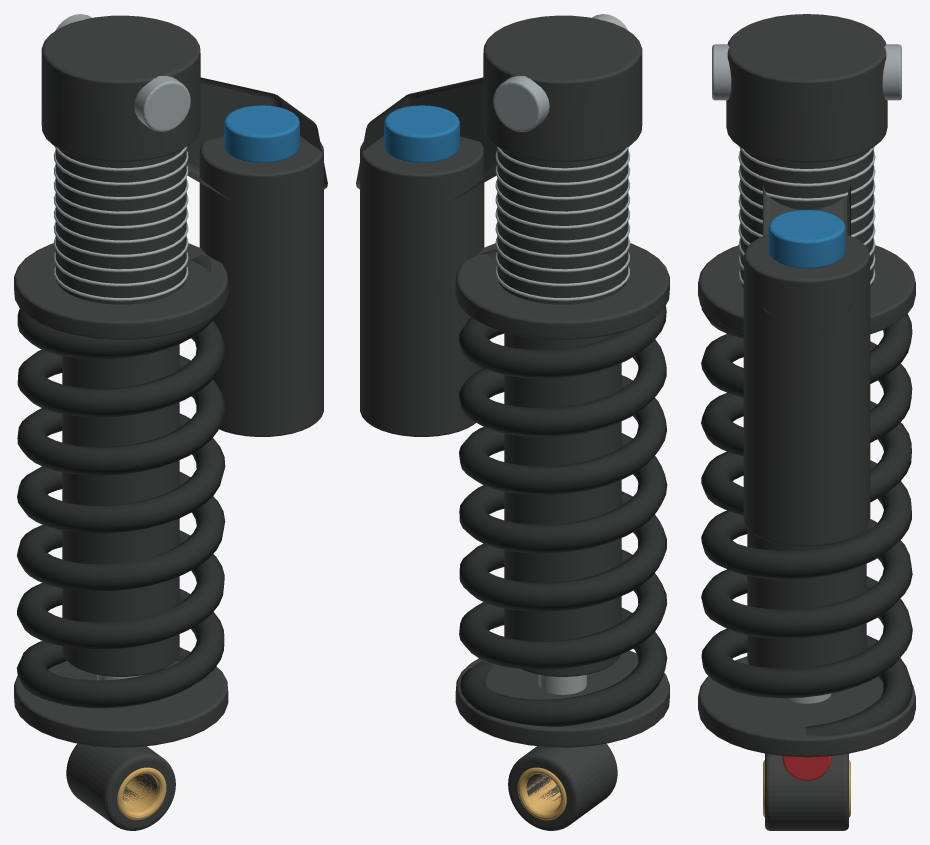
The model's file is marzocchi-bomber-cr--200ccd92.glb.
3 views of the same model, side by side, from view 1: azimuth 30°, elevation 25°; view 2: azimuth 150°, elevation 25°; view 3: azimuth 270°, elevation 25° (orthographic).
Visible parts, largest first — view 1: marzocchi-bomber-cr--200ccd92__link, marzocchi-bomber-cr--200ccd92__coil, marzocchi-bomber-cr--200ccd92__bolts, marzocchi-bomber-cr--200ccd92__adjuster, marzocchi-bomber-cr--200ccd92__stanchions; view 2: marzocchi-bomber-cr--200ccd92__link, marzocchi-bomber-cr--200ccd92__coil, marzocchi-bomber-cr--200ccd92__bolts, marzocchi-bomber-cr--200ccd92__adjuster, marzocchi-bomber-cr--200ccd92__stanchions; view 3: marzocchi-bomber-cr--200ccd92__link, marzocchi-bomber-cr--200ccd92__coil, marzocchi-bomber-cr--200ccd92__bolts, marzocchi-bomber-cr--200ccd92__adjuster, marzocchi-bomber-cr--200ccd92__rebound.
Part boxes in pixels (box(x1,y1,x2,y2)): marzocchi-bomber-cr--200ccd92__link: box(14, 15, 327, 830); marzocchi-bomber-cr--200ccd92__coil: box(16, 255, 225, 708); marzocchi-bomber-cr--200ccd92__bolts: box(53, 14, 190, 680); marzocchi-bomber-cr--200ccd92__adjuster: box(224, 105, 299, 163); marzocchi-bomber-cr--200ccd92__stanchions: box(117, 767, 166, 820); marzocchi-bomber-cr--200ccd92__link: box(356, 15, 669, 830); marzocchi-bomber-cr--200ccd92__coil: box(459, 249, 667, 726); marzocchi-bomber-cr--200ccd92__bolts: box(493, 14, 630, 694); marzocchi-bomber-cr--200ccd92__adjuster: box(384, 105, 459, 163); marzocchi-bomber-cr--200ccd92__stanchions: box(517, 767, 566, 820); marzocchi-bomber-cr--200ccd92__link: box(698, 14, 915, 830); marzocchi-bomber-cr--200ccd92__coil: box(701, 308, 912, 735); marzocchi-bomber-cr--200ccd92__bolts: box(712, 44, 901, 703); marzocchi-bomber-cr--200ccd92__adjuster: box(768, 210, 845, 268); marzocchi-bomber-cr--200ccd92__rebound: box(782, 756, 831, 780).
Size of the model in its own units: 0.096 by 0.245 by 0.062.
